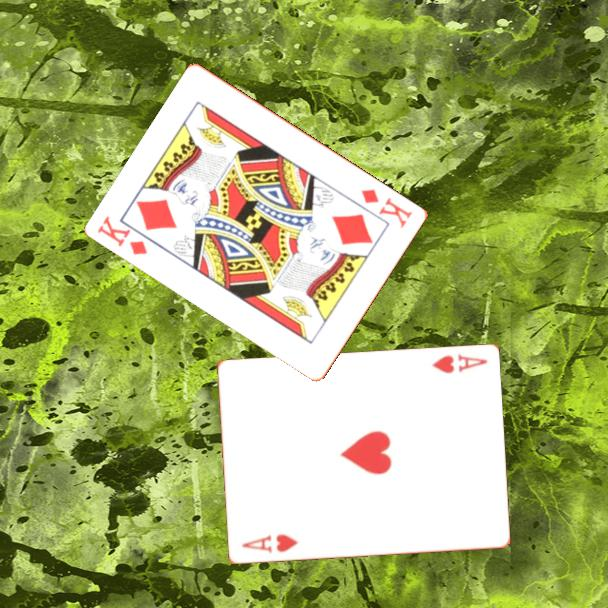d13: (358, 185, 416, 231), (94, 212, 151, 258)
h01: (238, 531, 301, 556), (428, 351, 490, 376)
